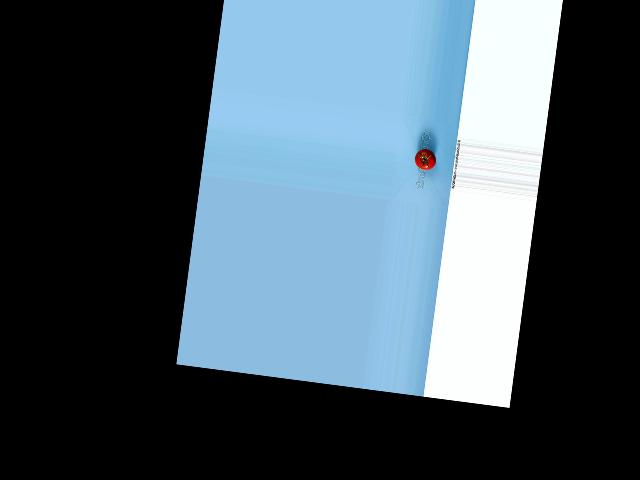tomato: (414, 148, 438, 171)
